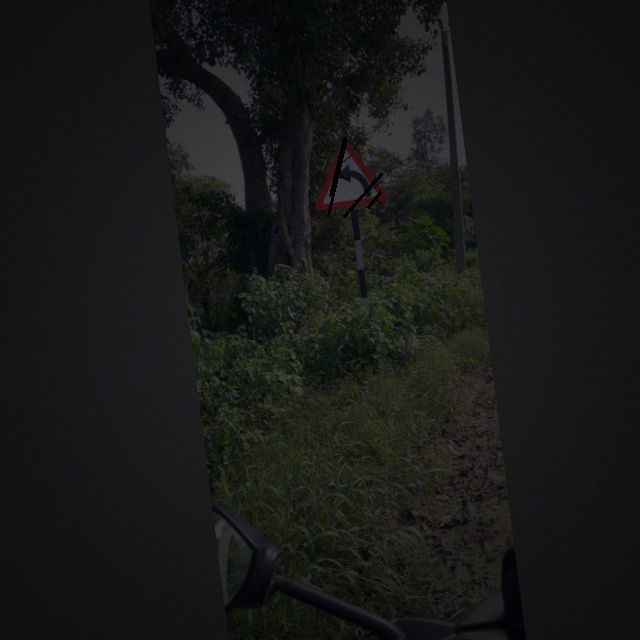Left_Hand_Curve: (302, 130, 389, 216)
